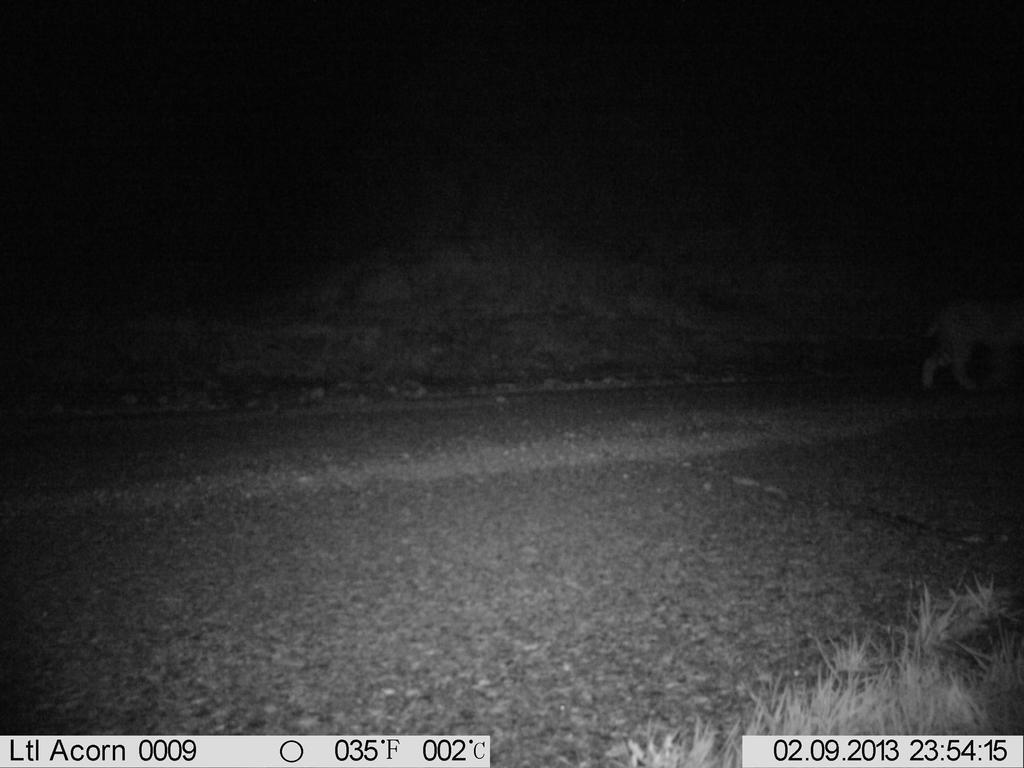bobcat: (916, 281, 1023, 409)
